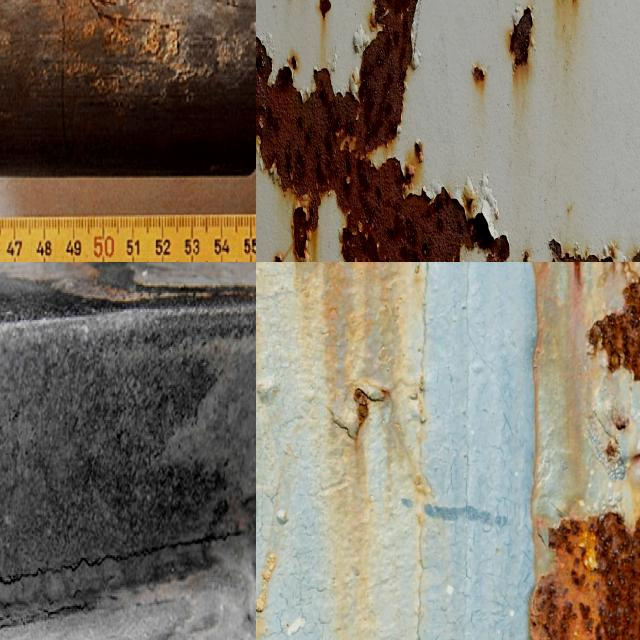Crack: (0, 534, 256, 627)
Pitting Corrosion: (256, 0, 520, 262), (531, 514, 640, 640), (588, 277, 640, 381)
